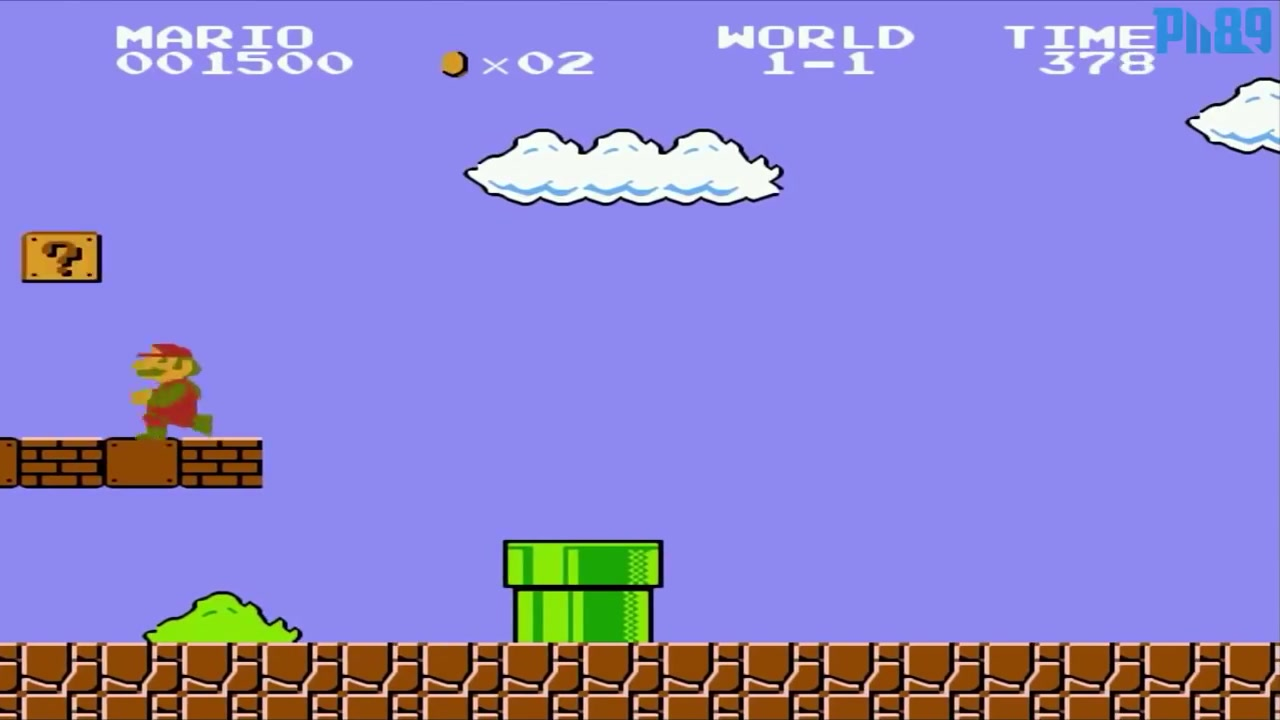mario: (115, 335, 220, 439)
